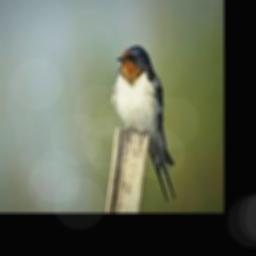Swallow: (111, 46, 177, 203)
